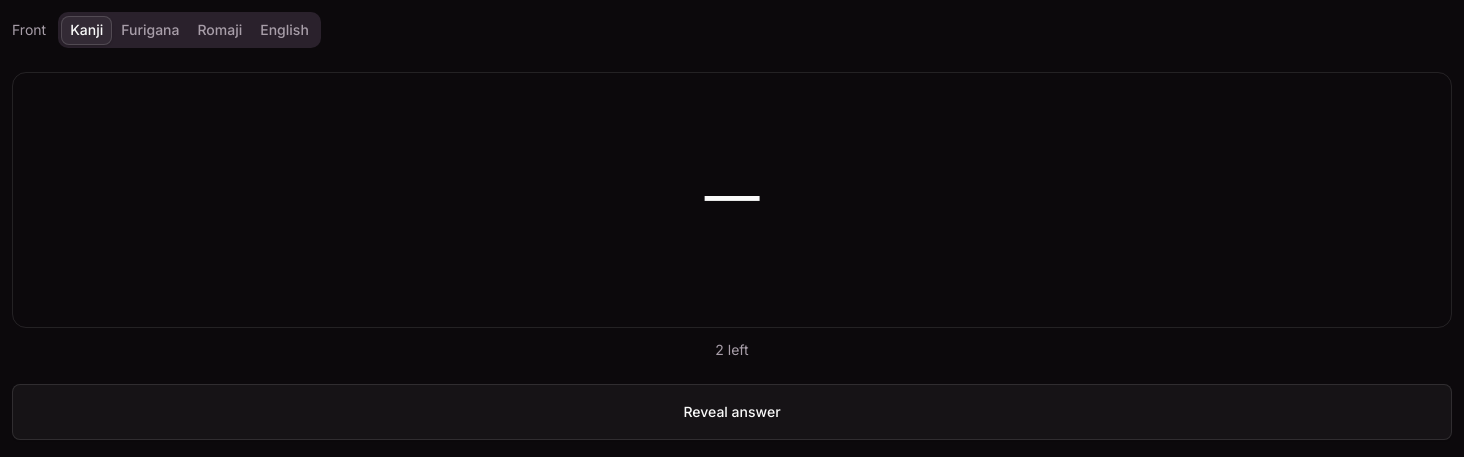
Scenario: Flashcards › again › does not bring the word back later in the session
What coordinates should you click on to do the following:
click the button "Reveal answer"
I would click on:
 (732, 412)
Its box is top-left (12, 384), bottom-right (1452, 440).
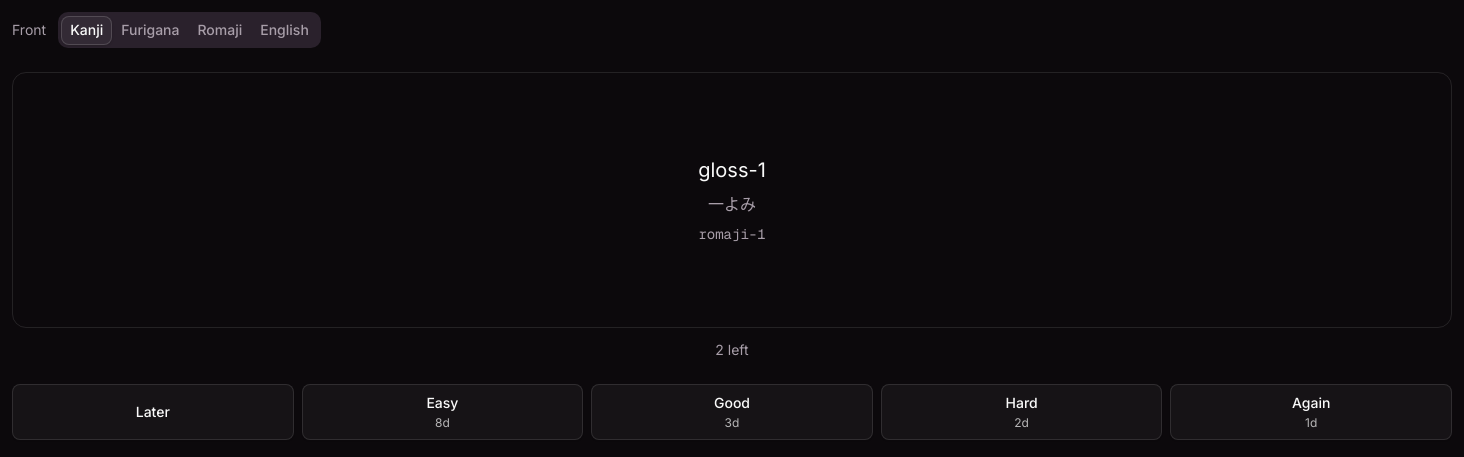
What coordinates should you click on to do the following:
click the button "Again 1d"
I would click on:
 (1311, 412)
Its box is top-left (1170, 384), bottom-right (1452, 440).
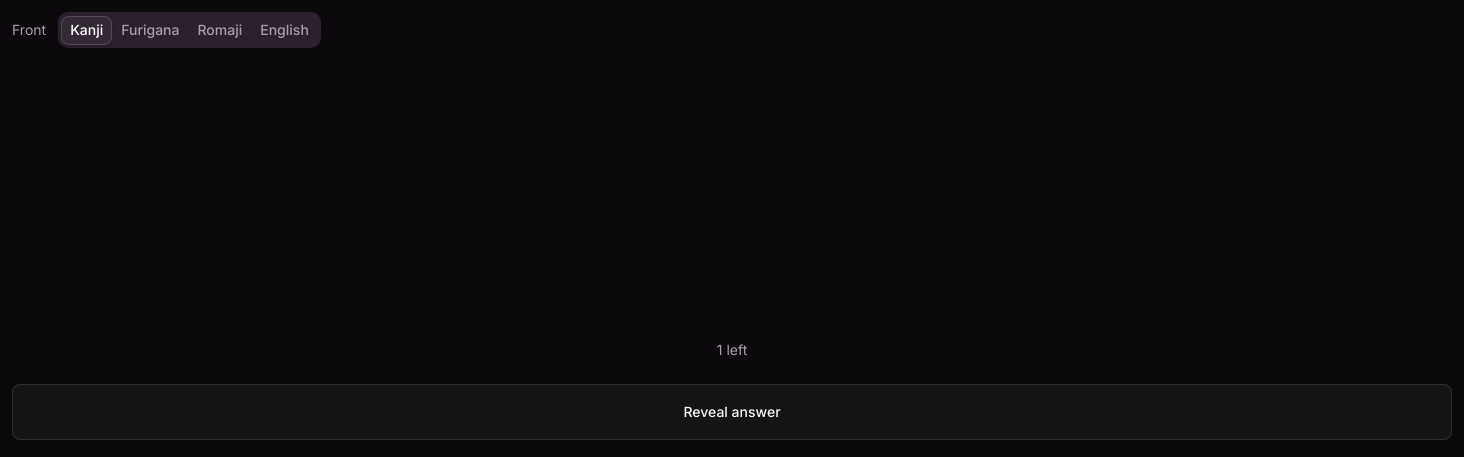
What coordinates should you click on to do the following:
click the button "Reveal answer"
I would click on:
 (732, 412)
Its box is top-left (12, 384), bottom-right (1452, 440).
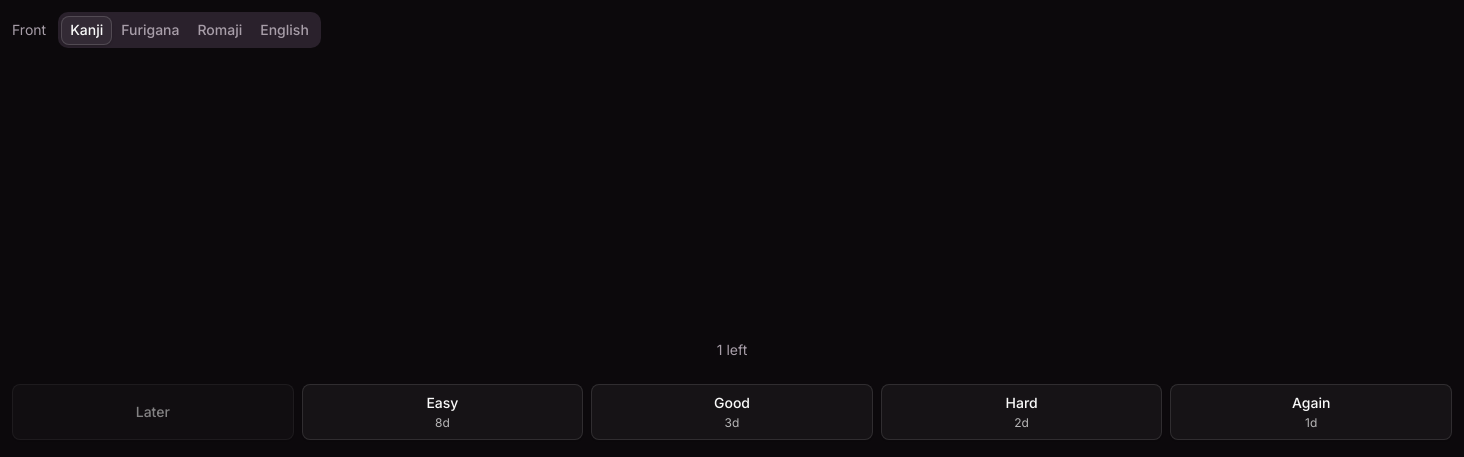
What coordinates should you click on to do the following:
click the button "Good 3d"
I would click on:
 (732, 412)
Its box is top-left (591, 384), bottom-right (873, 440).
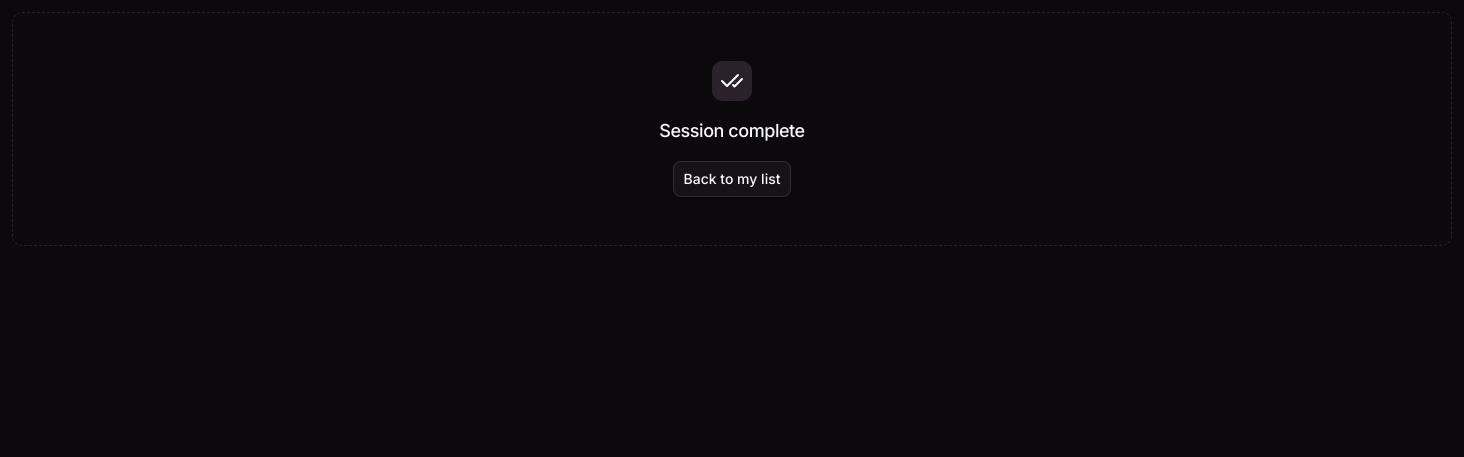
Expected: the text "Session complete" is shown, top-left (659, 117), bottom-right (805, 145)
